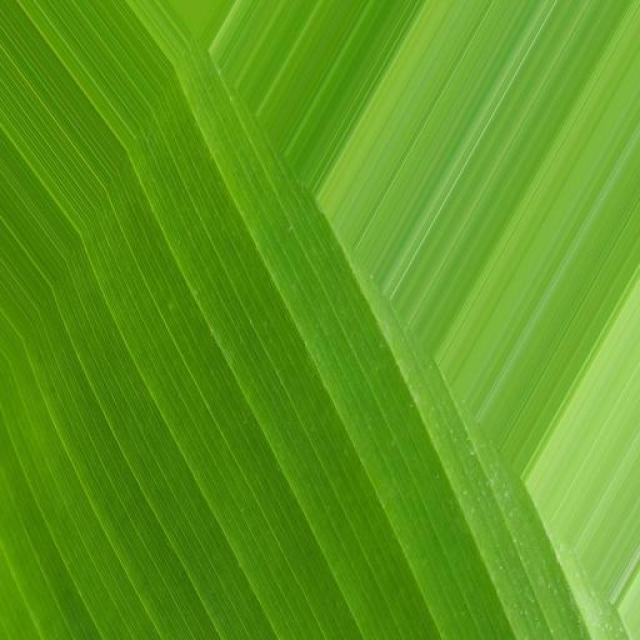Black_leaf_spot: (0, 51, 637, 605)
